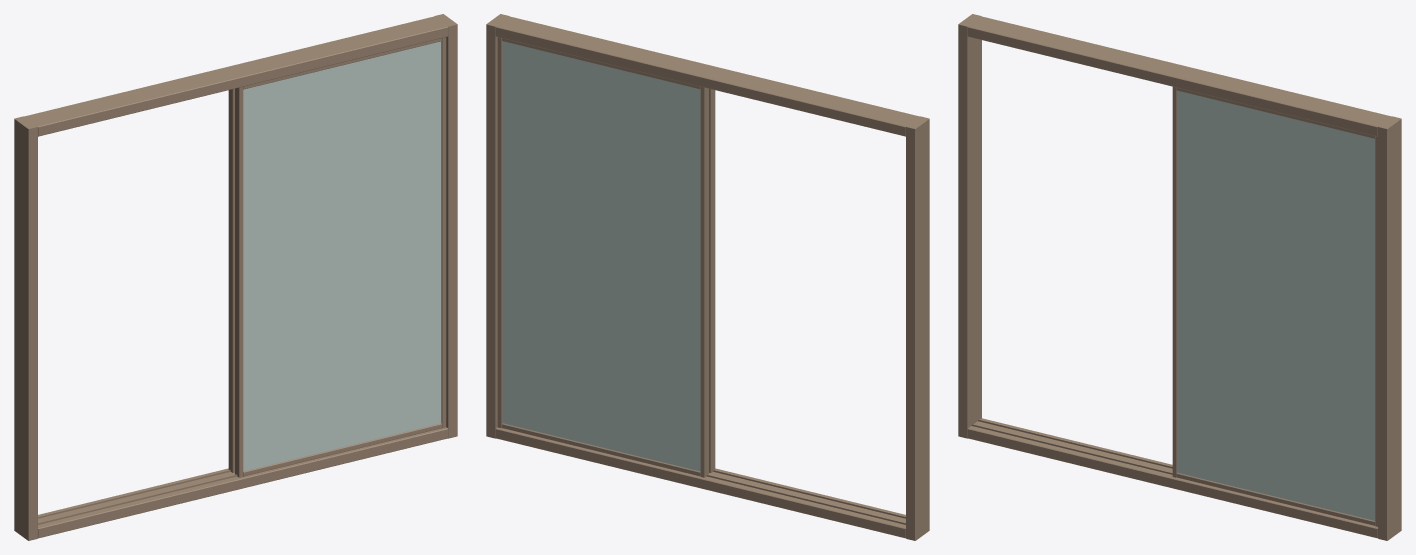
Rendered from co-S140RP-2-quartz-1019-ouvert.glb.
The picture shows the model from 3 angles, left to right: view 1: azimuth 30°, elevation 25°; view 2: azimuth 150°, elevation 25°; view 3: azimuth 330°, elevation 25°; orthographic projection.
Parts seen in each view (by area): view 1: verre, structure; view 2: verre, structure; view 3: verre, structure.
Part boxes in pixels (left/top/right/bottom): verre: left=243, top=41, right=441, bottom=471; structure: left=14, top=14, right=457, bottom=540; verre: left=502, top=41, right=700, bottom=471; structure: left=486, top=14, right=929, bottom=540; verre: left=1177, top=91, right=1375, bottom=520; structure: left=958, top=14, right=1401, bottom=540.
Size of the model in its own units: 2.4 by 2.2 by 0.14.
